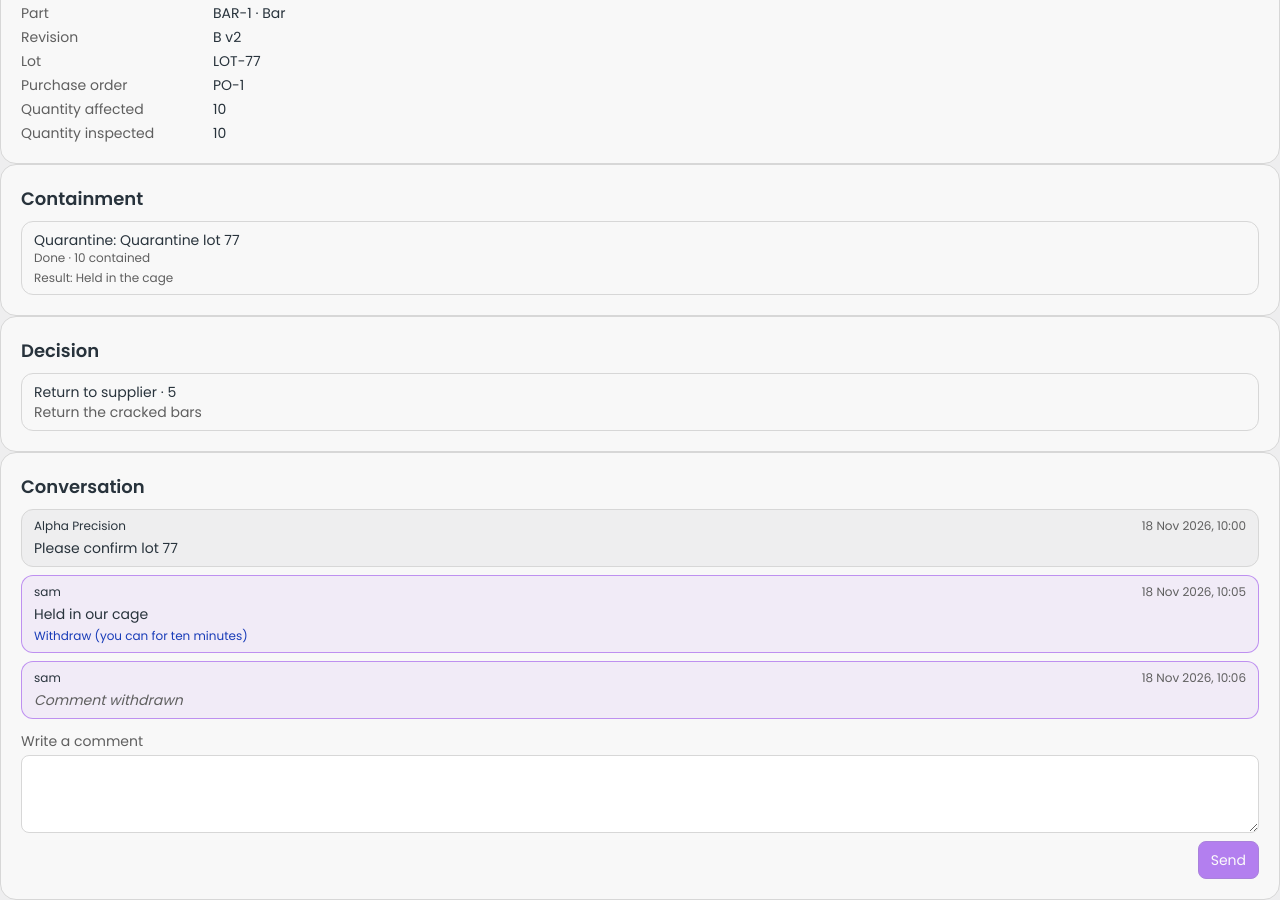
a shared record in the portal › sends a comment and clears the box
The width and height of the screenshot is (1280, 900).
(page scrolled)
Expected: the button "Send" is disabled, [1198, 841, 1259, 879]
Type "Will return the bars on Friday" into the text box labelled "Write a comment".
click(640, 794); type("Will return the bars on Friday")  # box [21, 755, 1259, 833]
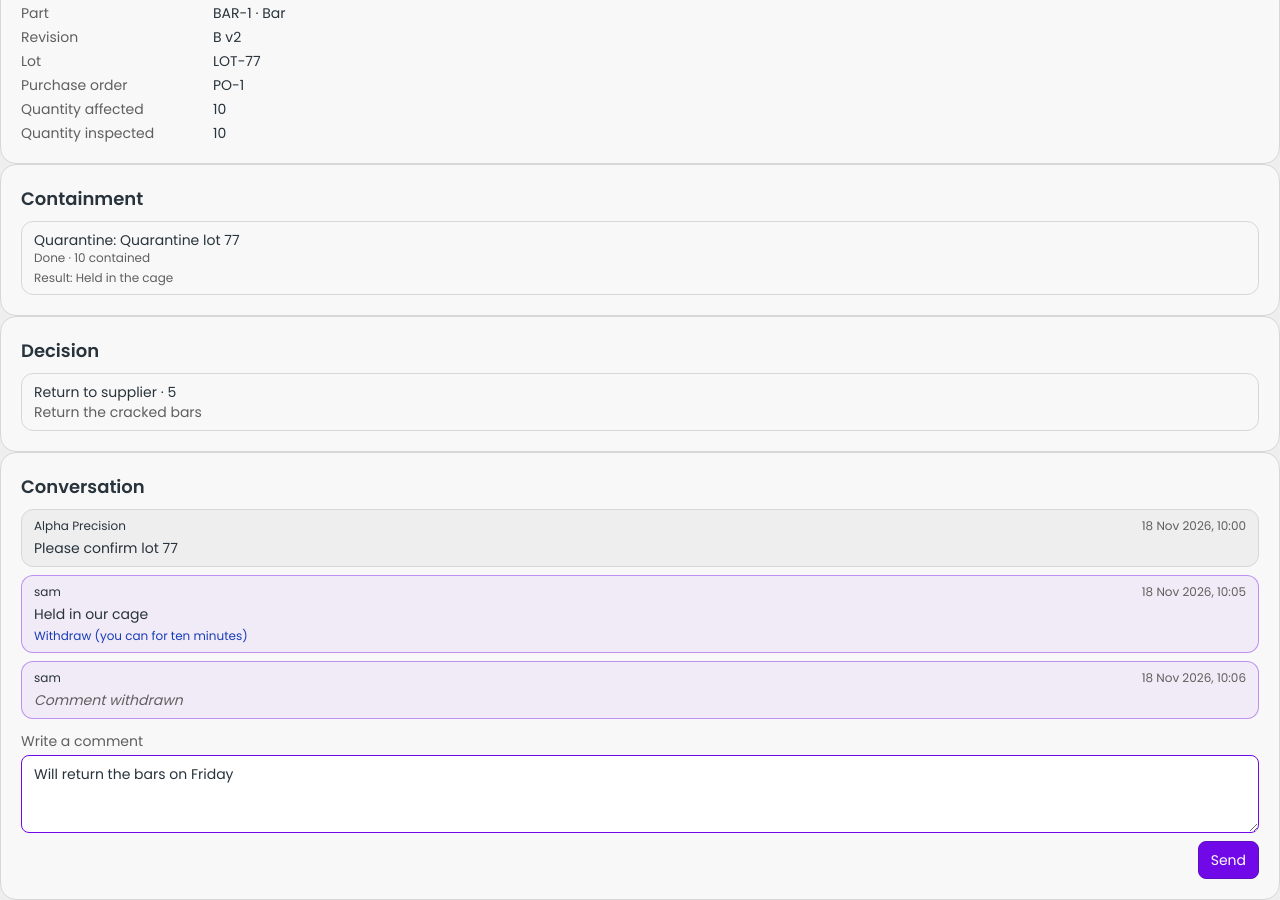
Click the button "Send".
click(1228, 860)  # box [1198, 841, 1259, 879]
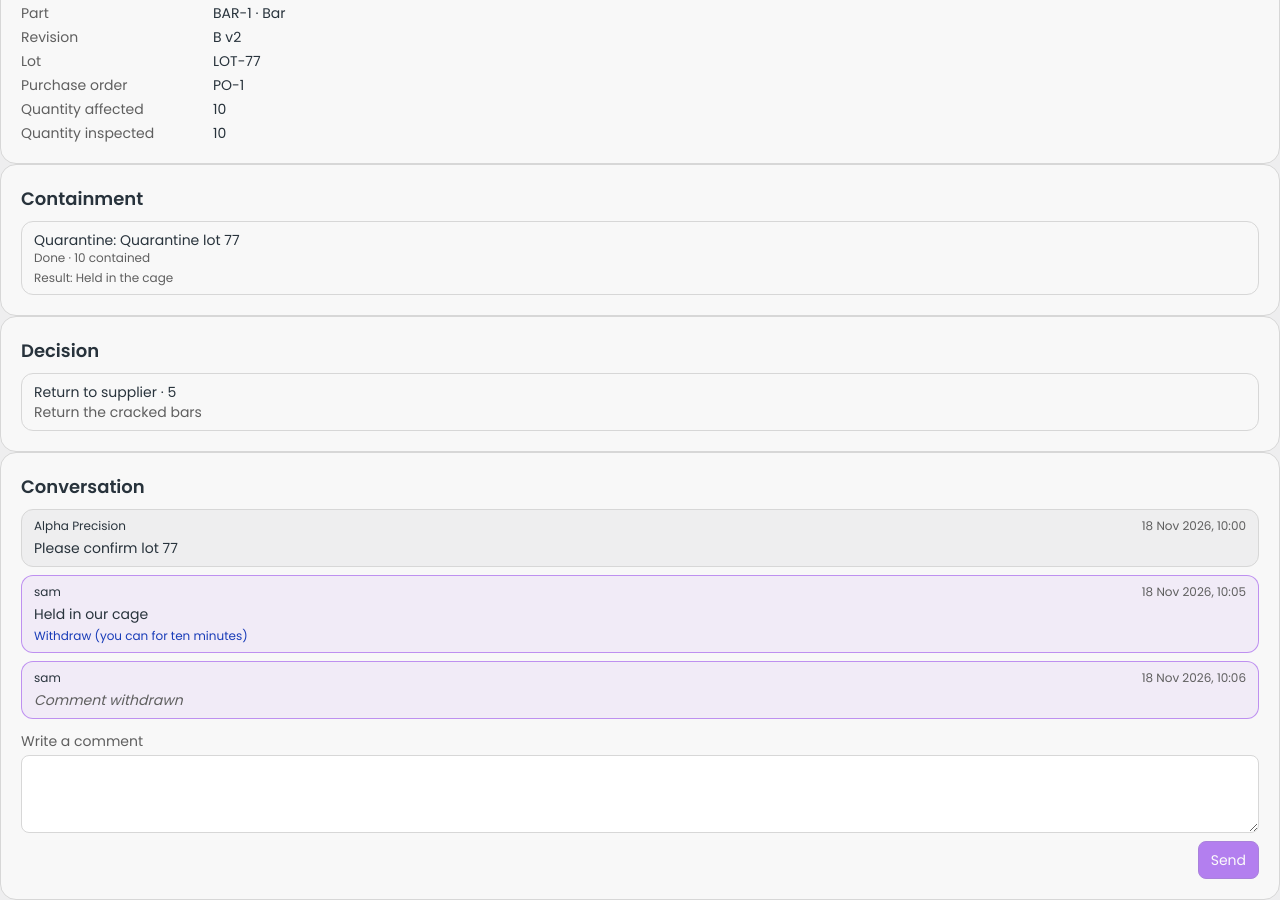
Expected: the text box labelled "Write a comment" is empty, [21, 755, 1259, 833]
